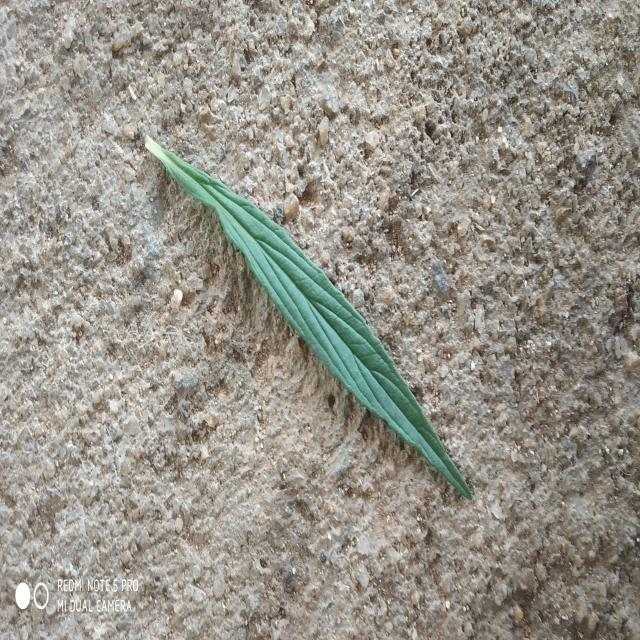thambe: (145, 136, 472, 500)
